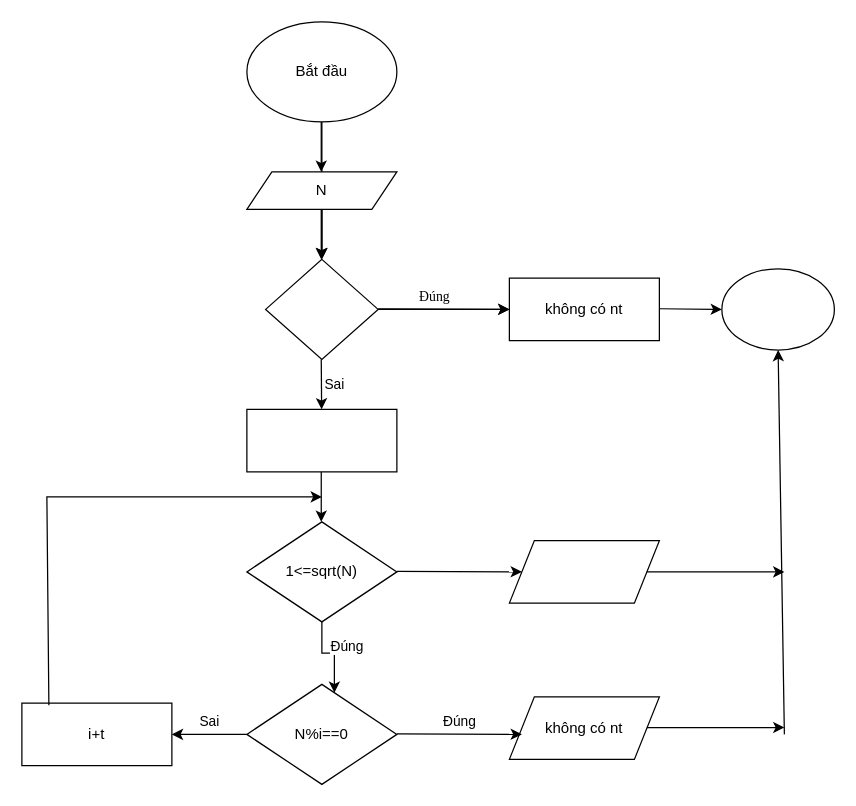
Some shapes in this 856 by 806 pixel diagram are drawn without their labels. Each missing label, with the centre of its shape:
"Có nt" goes at pixel 583 571.
"i=2" goes at pixel 321 440.
"kết thúc" goes at pixel 777 309.
"N<2" goes at pixel 321 308.
